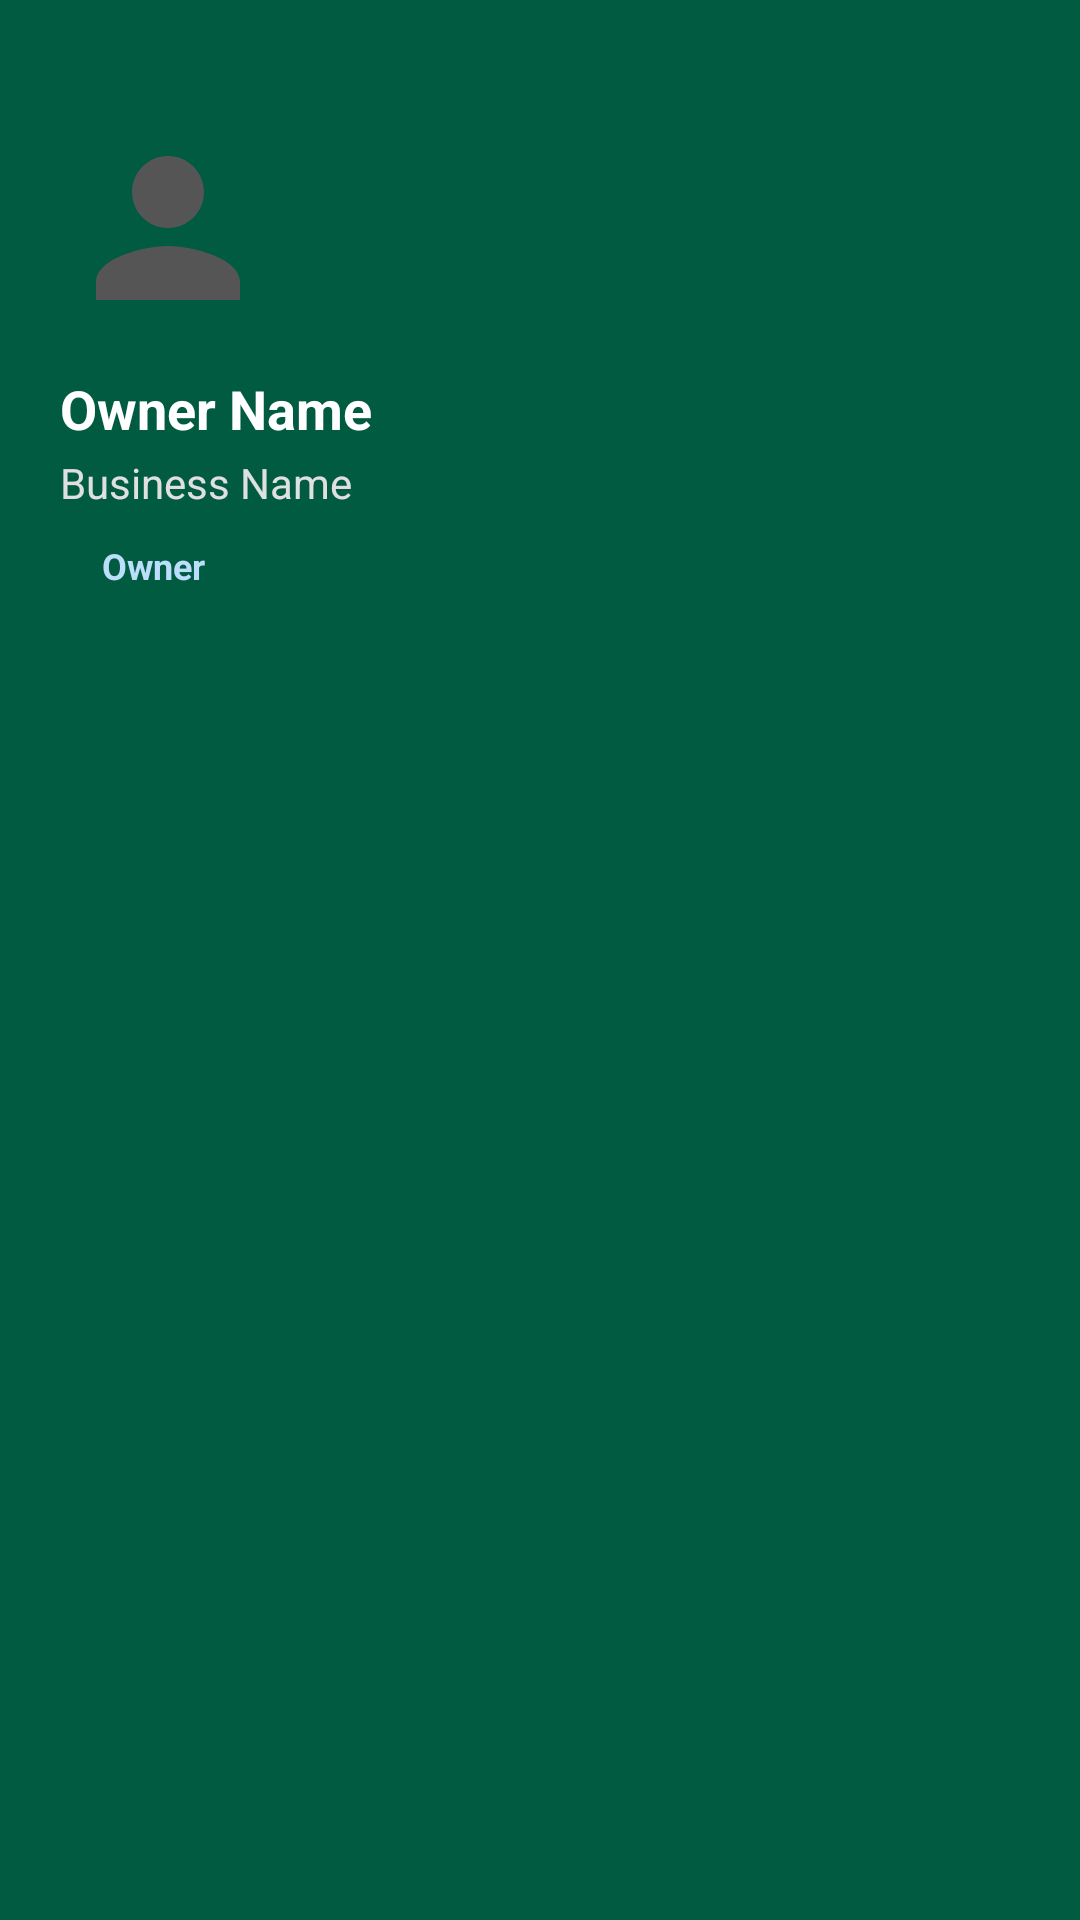

Icon click points for this 1080 × 1920 phone screenshot, format (x=x, y=y):
user: (x=168, y=228)
